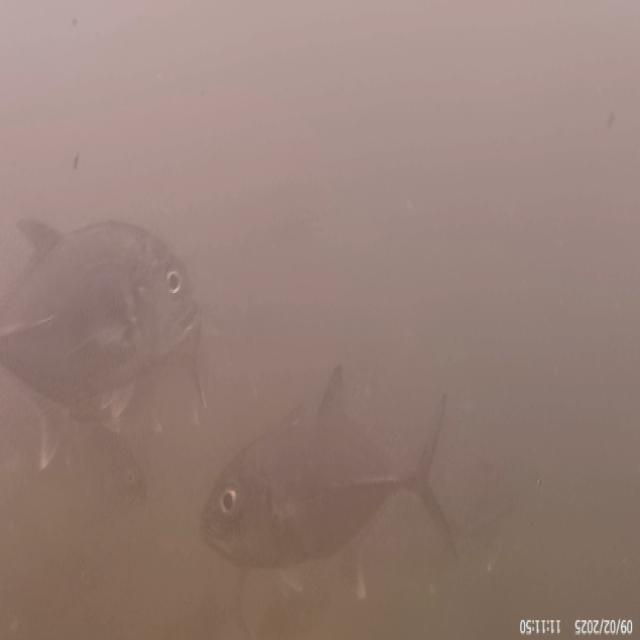ikan: (194, 366, 451, 584), (12, 204, 208, 405)
